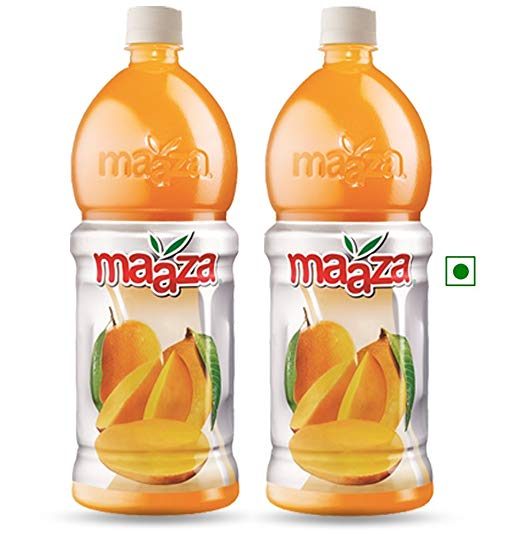VEG: (444, 253, 477, 288)
